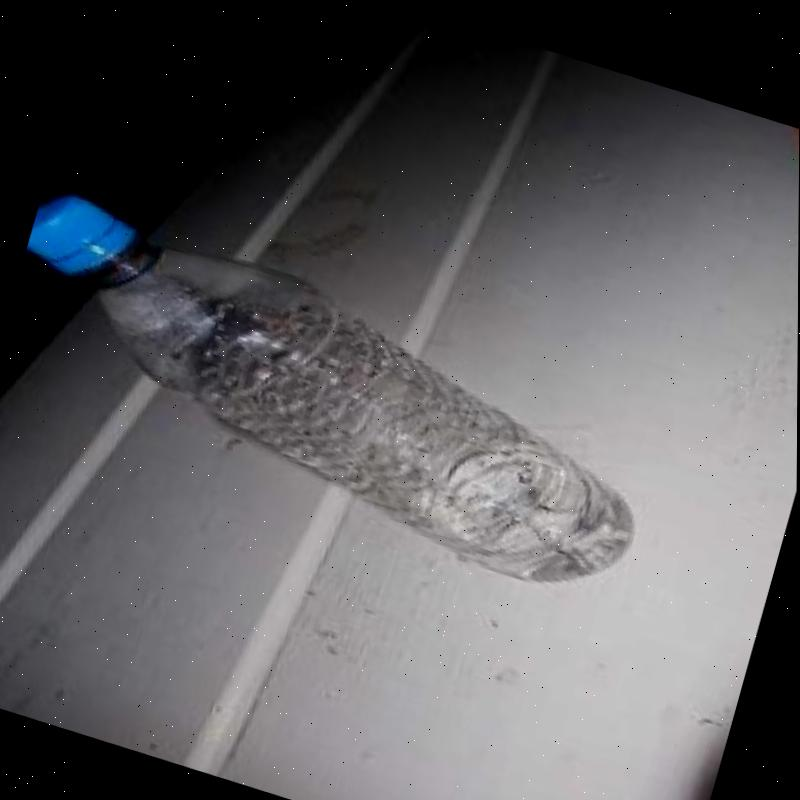botella: (0, 176, 682, 622)
